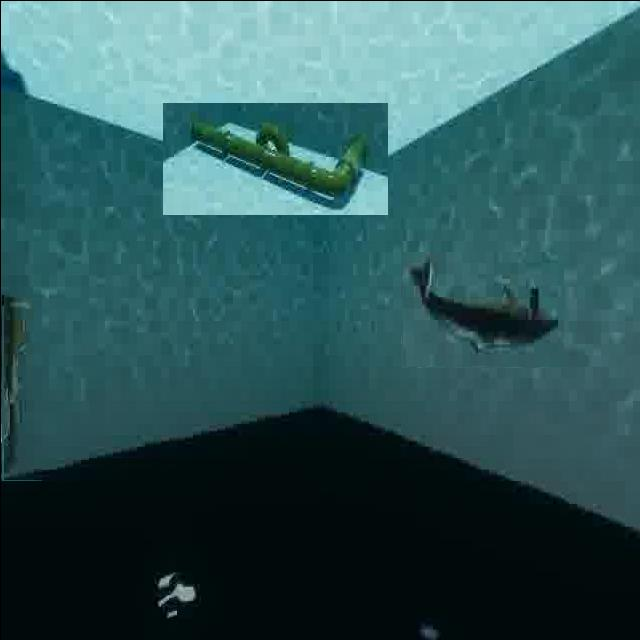Control Panel: (1, 294, 42, 480)
Pipe: (162, 102, 387, 214)
Whale: (401, 251, 563, 367)
